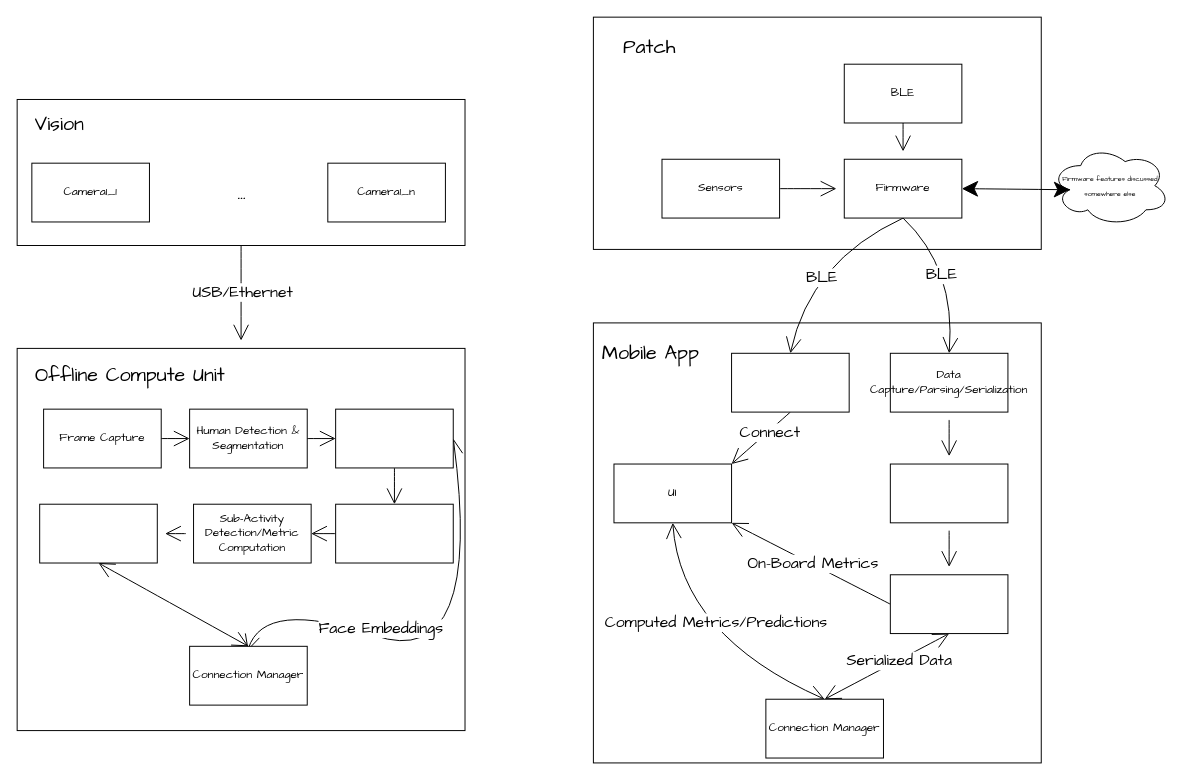
The diagram is 1187 pixels wide and 780 high, and some of its shapes have lost their labels. The shapes that lost their labels are listed below. From the top down, each one's box as (x1, y1, x2, y2) in pixels, then its label:
(731, 352, 849, 412): Pair Service
(335, 408, 453, 468): Registered User Identification
(889, 463, 1008, 523): Caching/Backup
(39, 503, 157, 563): Data Serialization
(335, 503, 453, 563): Activity Classification
(889, 574, 1008, 634): Filtering Service
